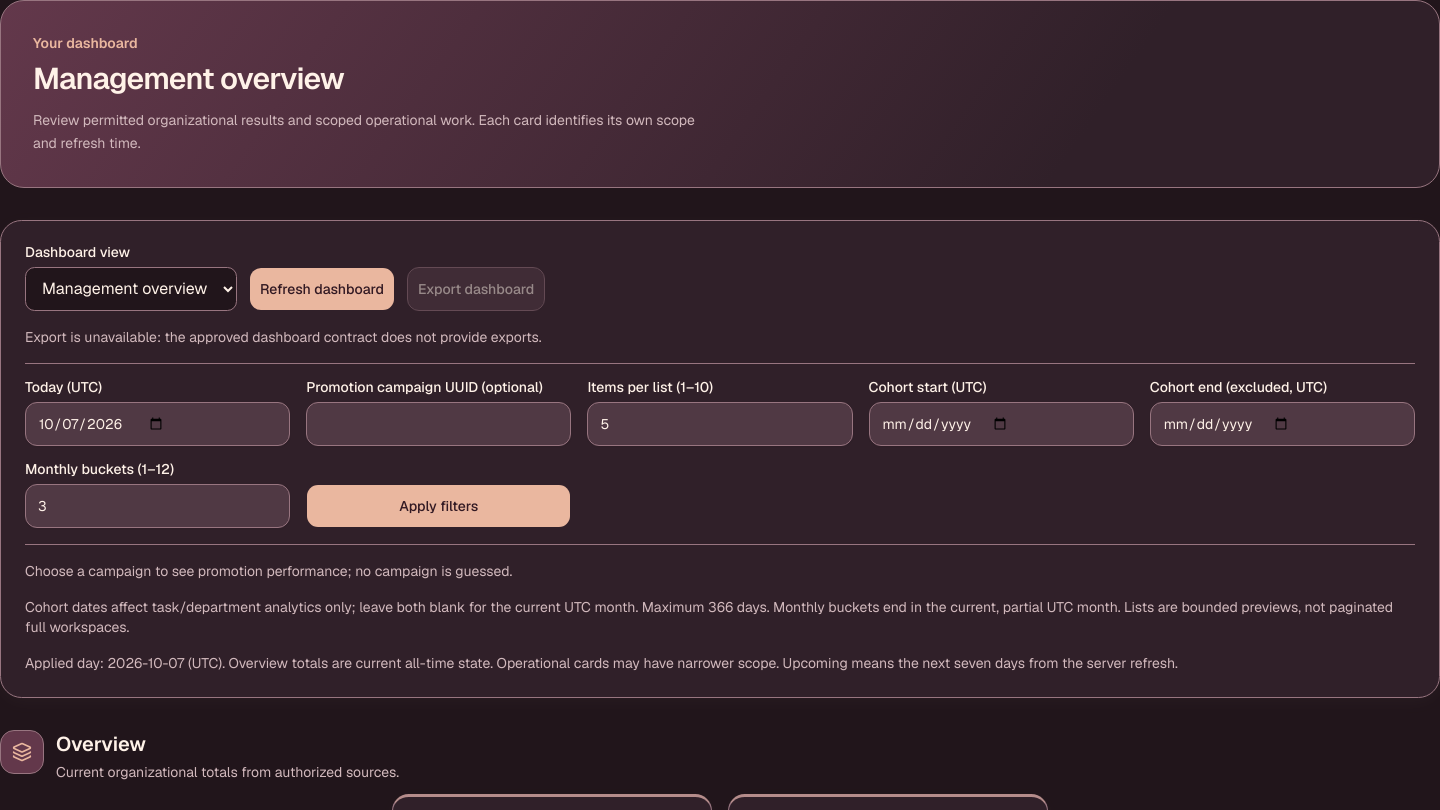
live dashboard integration › clears protected content and cache on dashboard HTTP 401
What coordinates should you click on to do the following:
click the button "Refresh dashboard"
I would click on:
 (322, 288)
Its box is x1=249 y1=266 x2=395 y2=310.
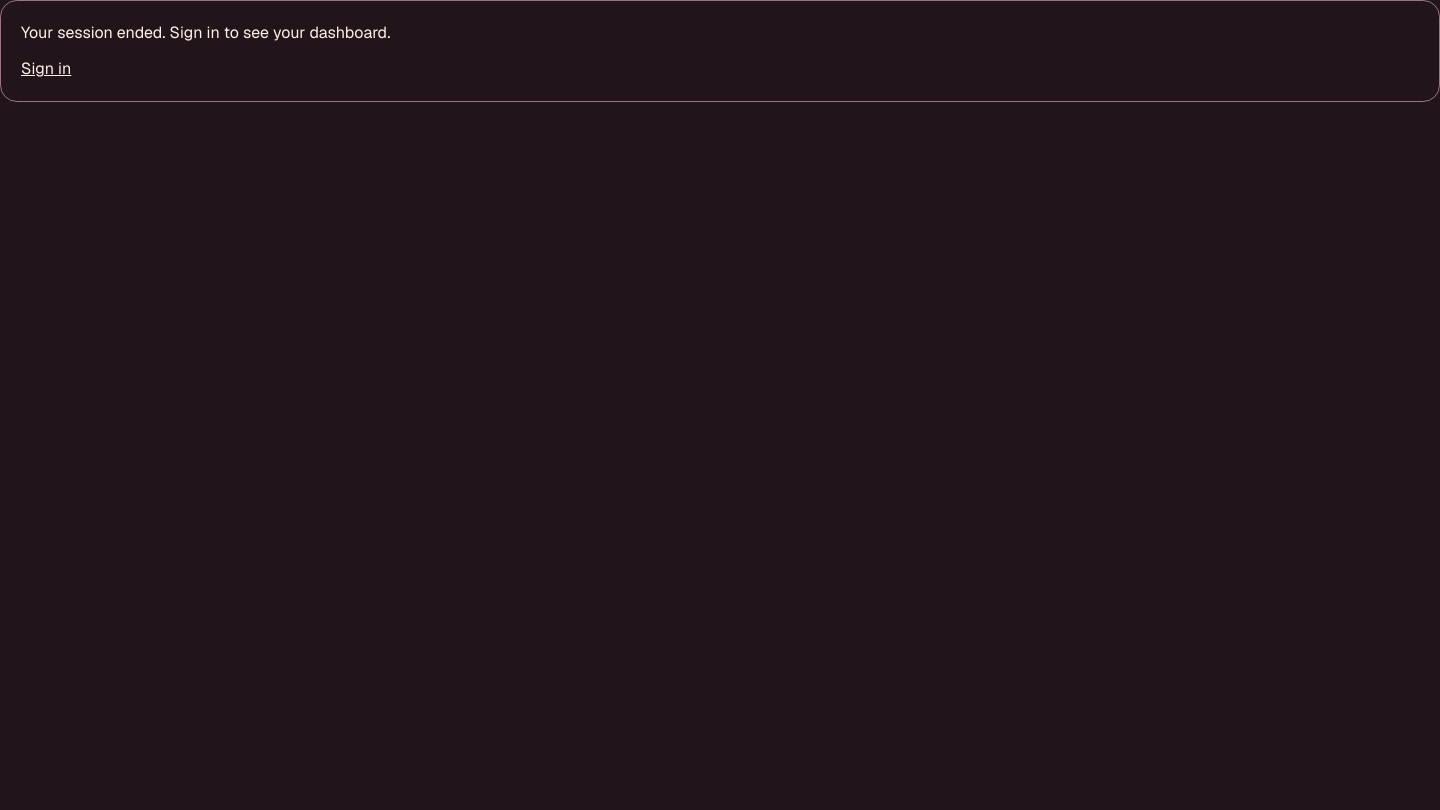
Check: the message "Your session ended. Sign in to see your dashboard." is shown, box x1=21 y1=22 x2=390 y2=43
